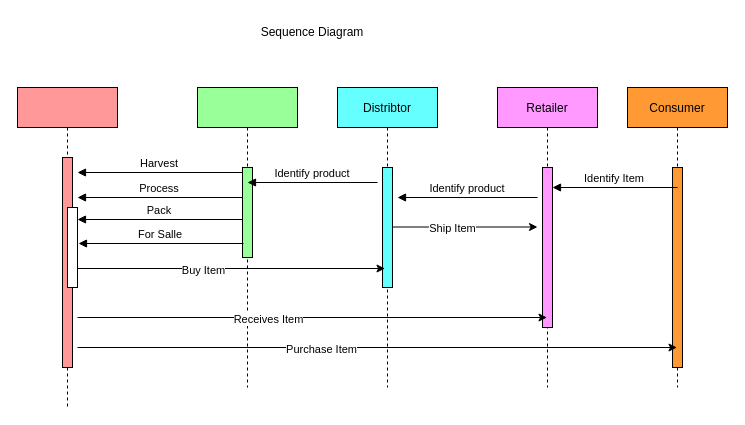
The diagram is 745 pixels wide and 425 high, and some of its shapes have lost their labels. The shapes that lost their labels are listed below. From the top down, each one's centre as x and y in pixels, then its label:
(67,247): Item
(247,237): Farmer
